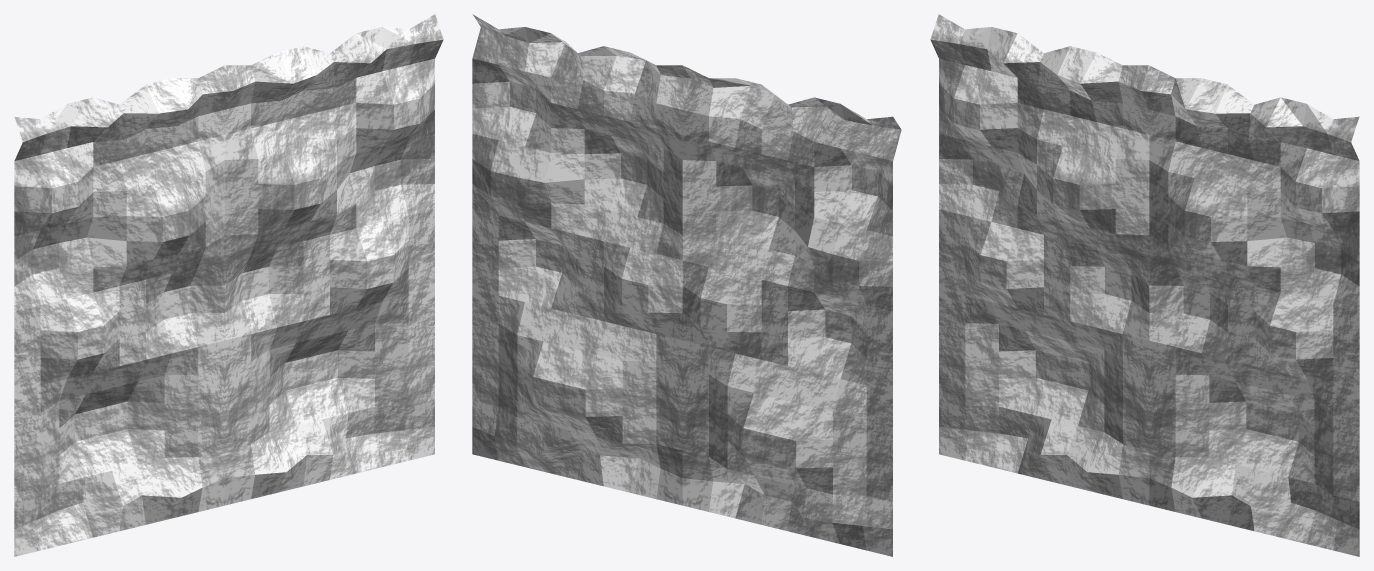
The model's file is Wall.fbx.
The picture shows the model from 3 angles, left to right: view 1: azimuth 30°, elevation 25°; view 2: azimuth 150°, elevation 25°; view 3: azimuth 330°, elevation 25°; orthographic projection.
Parts seen in each view (by area): view 1: Cube; view 2: Cube; view 3: Cube.
Boxes of the visible parts, x1=… form: Cube: x1=14, y1=14, x2=443, y2=556; Cube: x1=472, y1=14, x2=901, y2=556; Cube: x1=930, y1=14, x2=1359, y2=556.
Bounding box in the file's own units: 100 × 100 × 14.54.
1 material, 1 textured.
